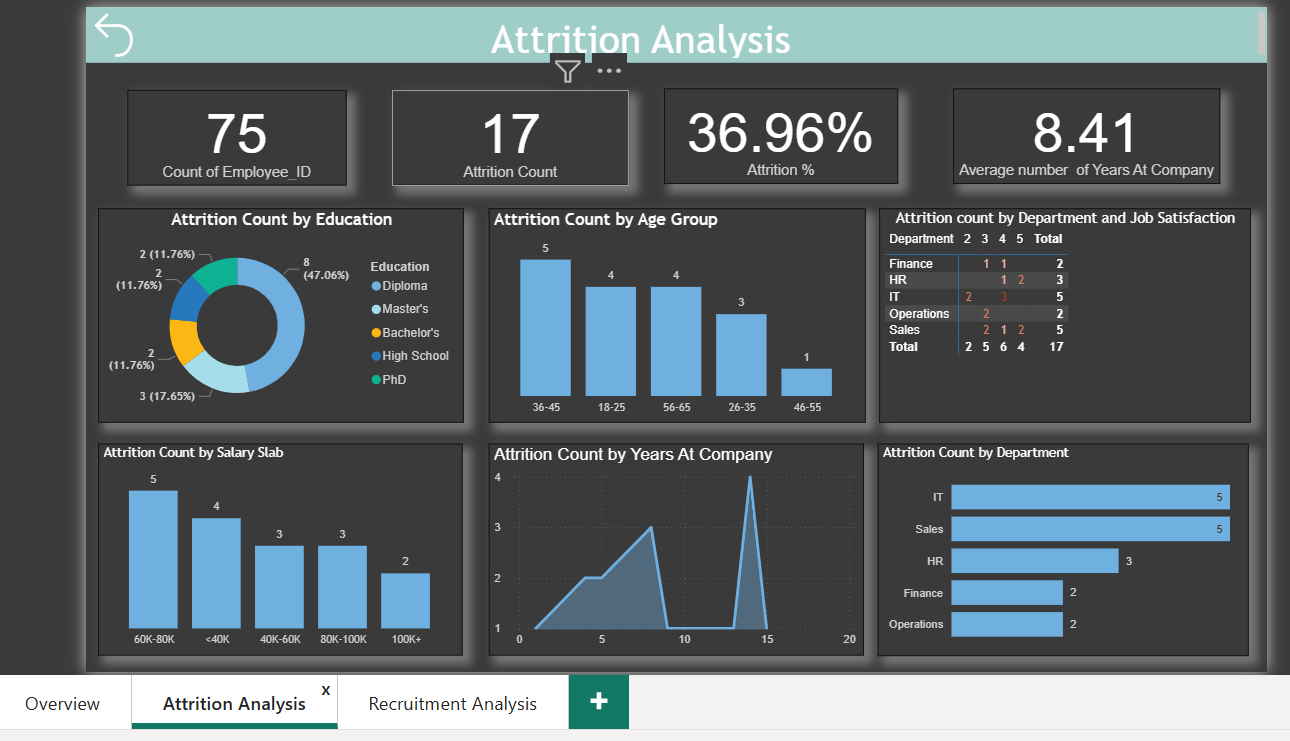

Layout of this report page (visuals, bound fields, positions):
{"tool":"powerbi","page":{"name":"Attrition Analysis","canvas":[1280,720],"ordinal":1},"visuals":[{"type":"textbox","box":[0,0,1283,60.5],"z":0},{"type":"card","fields":{"Values":["CountNonNull(Employees.Employee_ID)"]},"box":[44.2,90,237.3,103.1],"z":1000},{"type":"card","fields":{"Values":["Measures Table (2).Attrition Count"]},"box":[332.2,90,256.9,103.1],"z":2000},{"type":"card","fields":{"Values":["Measures Table (2).Attrition %"]},"box":[626.8,88.4,253.6,103.1],"z":3000},{"type":"card","fields":{"Values":["Avg(Employees.Years At Company)"]},"box":[939.3,88.4,289.6,103.1],"z":4000},{"type":"donutChart","fields":{"Y":["Measures Table (2).Attrition Count"],"Category":["Employees.Education"]},"box":[13.4,219,396.3,232.4],"z":5000},{"type":"columnChart","fields":{"Y":["Measures Table (2).Attrition Count"],"Category":["Employees.Age Group"]},"box":[436.6,219,408.3,232.4],"z":6000},{"type":"pivotTable","title":"Attrition count by Department and Job Satisfaction","fields":{"Columns":["Employees.Job Satisfaction"],"Rows":["Employees.Department"],"Values":["Measures Table (2).Attrition Count"]},"box":[859.7,219,402.3,232.4],"z":7000},{"type":"columnChart","fields":{"Y":["Measures Table (2).Attrition Count"],"Category":["Employees.Salary Slab"]},"box":[13.4,473.8,394.9,229.5],"z":8000},{"type":"lineChart","fields":{"Y":["Measures Table (2).Attrition Count"],"Category":["Employees.Years At Company"]},"box":[436.6,473.8,406.8,229.5],"z":9000},{"type":"barChart","fields":{"Y":["Measures Table (2).Attrition Count"],"Category":["Employees.Department"]},"box":[859.1,473.3,402,230.2],"z":10000},{"type":"actionButton","box":[0,0,99.8,60.5],"z":11000}]}

Visuals, with their boxes on the page's 1280x720 design canvas (x1, y1, x2, y2). These are canvas units, not pixel positions in the 1290x741 screenshot, which may show the page scaled, cropped or inside an application window:
textbox: (x1=0, y1=0, x2=1283, y2=60)
card - CountNonNull(Employees.Employee_ID): (x1=44, y1=90, x2=282, y2=193)
card - Measures Table (2).Attrition Count: (x1=332, y1=90, x2=589, y2=193)
card - Measures Table (2).Attrition %: (x1=627, y1=88, x2=880, y2=192)
card - Avg(Employees.Years At Company): (x1=939, y1=88, x2=1229, y2=192)
donutChart - Measures Table (2).Attrition Count x Employees.Education: (x1=13, y1=219, x2=410, y2=451)
columnChart - Measures Table (2).Attrition Count x Employees.Age Group: (x1=437, y1=219, x2=845, y2=451)
"Attrition count by Department and Job Satisfaction" pivotTable: (x1=860, y1=219, x2=1262, y2=451)
columnChart - Measures Table (2).Attrition Count x Employees.Salary Slab: (x1=13, y1=474, x2=408, y2=703)
lineChart - Measures Table (2).Attrition Count x Employees.Years At Company: (x1=437, y1=474, x2=843, y2=703)
barChart - Measures Table (2).Attrition Count x Employees.Department: (x1=859, y1=473, x2=1261, y2=704)
actionButton: (x1=0, y1=0, x2=100, y2=60)
